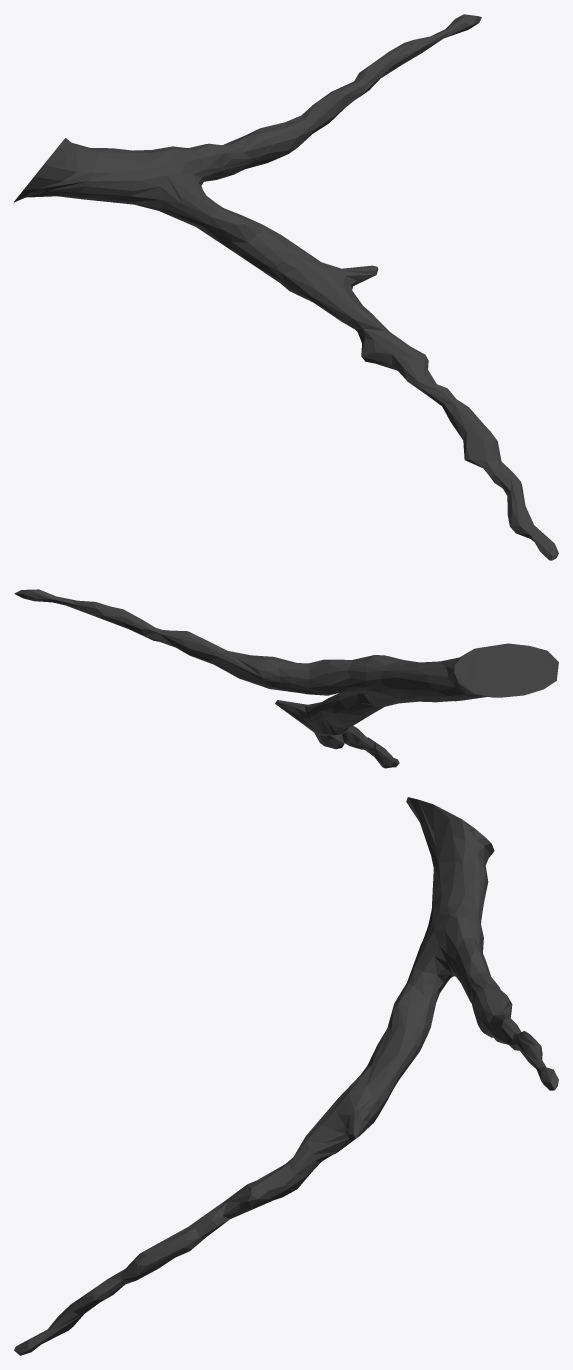
File: Right_accessory_lobe_bronchus_1.glb
3 renders of one model, top to bottom at view 1: azimuth 30°, elevation 25°; view 2: azimuth 150°, elevation 25°; view 3: azimuth 270°, elevation 25°, orthographic. The views are drawn at different scales.
Visible parts, largest first — view 1: Right_accessory_lobe_bronchus_1; view 2: Right_accessory_lobe_bronchus_1; view 3: Right_accessory_lobe_bronchus_1.
Boxes of the visible parts, bbox=[...] form: Right_accessory_lobe_bronchus_1: bbox=[14, 14, 558, 560]; Right_accessory_lobe_bronchus_1: bbox=[14, 589, 558, 768]; Right_accessory_lobe_bronchus_1: bbox=[14, 797, 558, 1355].
Bounding box in the file's own units: 3.32 × 2.08 × 2.68.
Materials: 1 (1 with a texture image).
